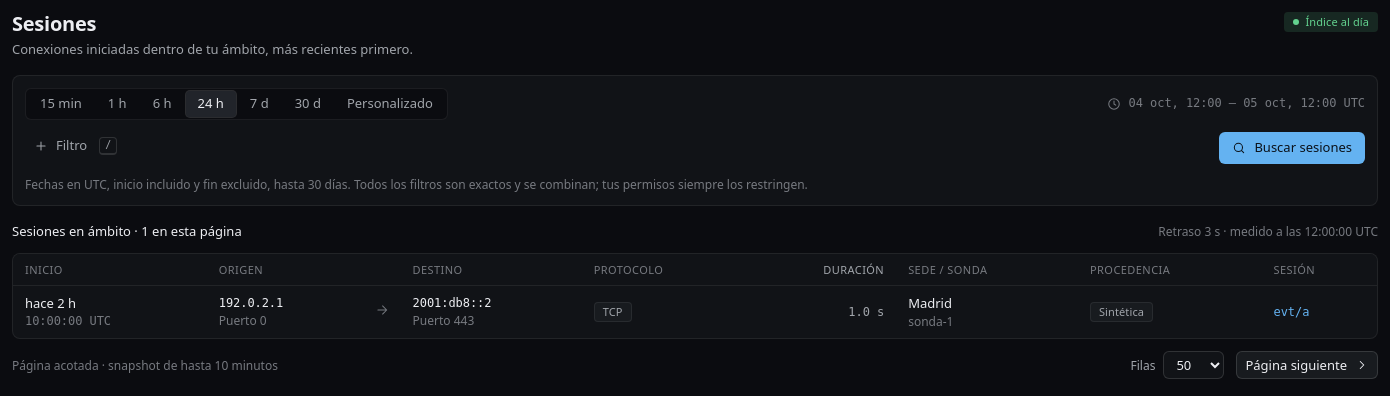
it: SessionSearchPage › distinguishes HTTP 400 from no matches and clears previous data
Step 1. Click the button "Página siguiente" → (1307, 365), box [1236, 351, 1378, 379]
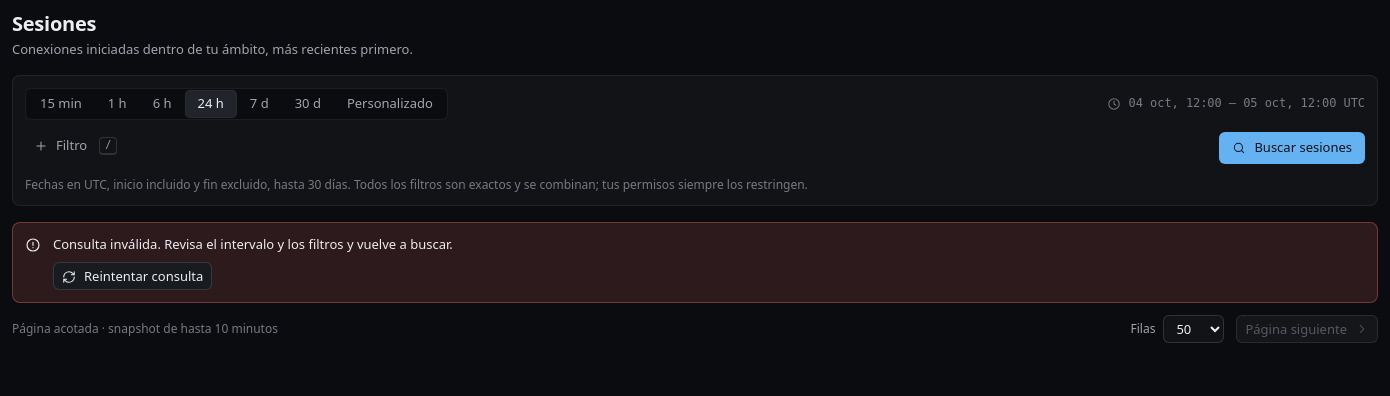
Result: the button "Página siguiente" is disabled at [1236, 315, 1378, 343]
